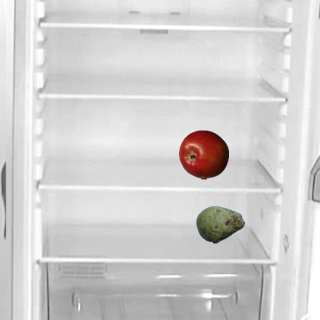Apple Braeburn: (178, 129, 228, 179)
Pear Stone: (195, 199, 245, 249)
